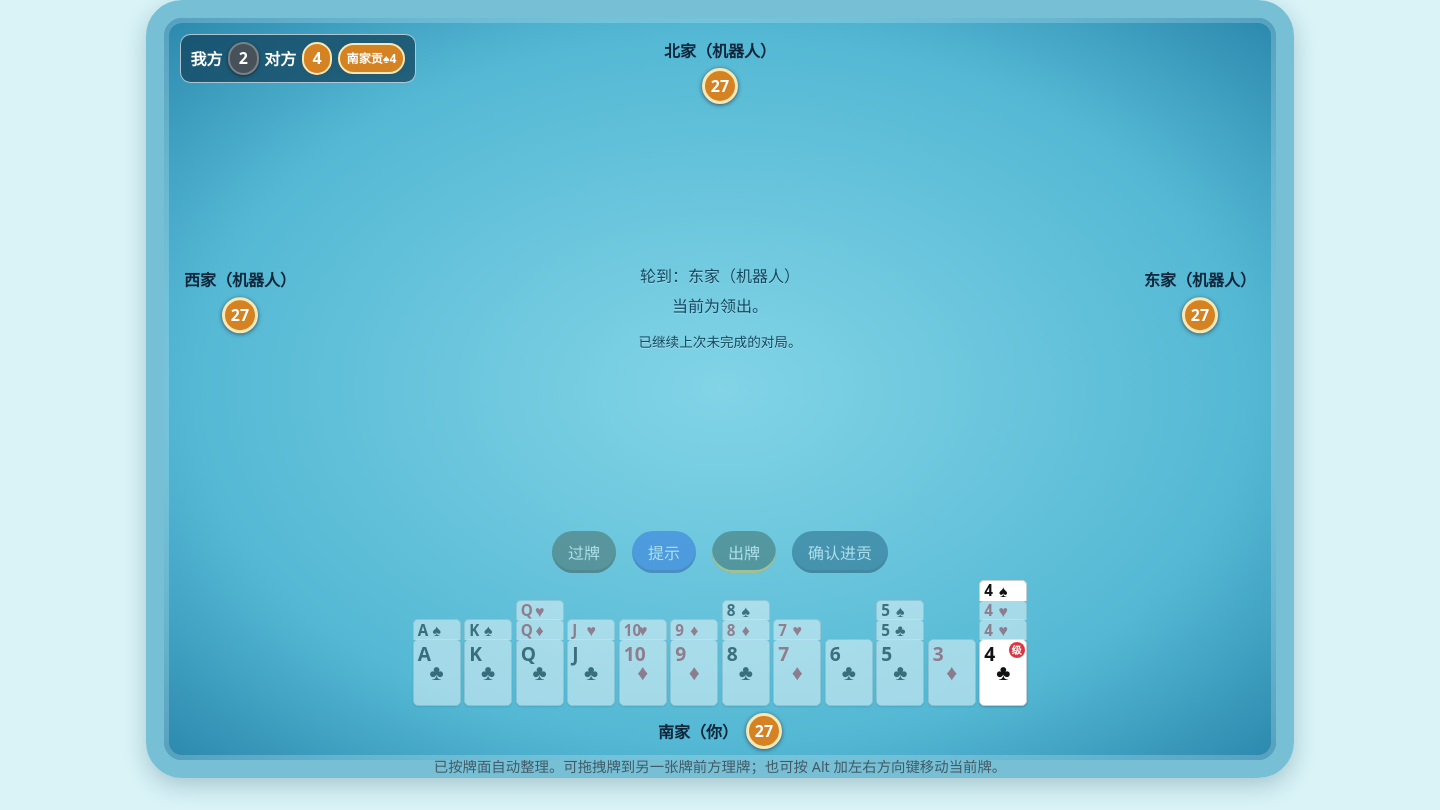
Test: App › 连续赛局的南家进贡阶段只允许选择贡牌并手动确认
(page scrolled)
Expected: the button "过牌" is disabled, [552,531,616,573]
Expected: the button "提示" is disabled, [632,531,696,573]
Click the button named "选择" at (1003, 672), box [979,639,1027,706]
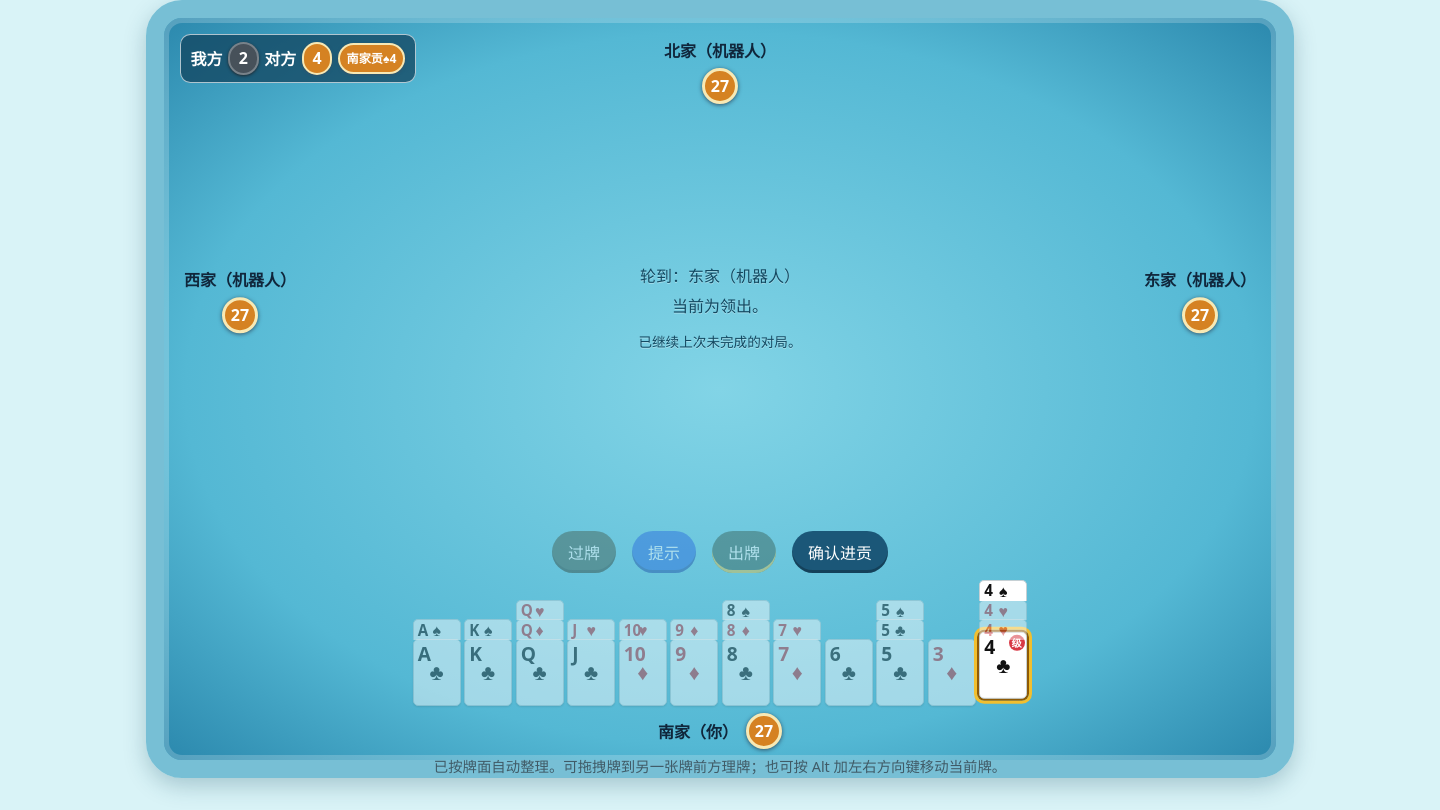
Click the button "确认进贡" at (840, 552), box [792,531,888,573]
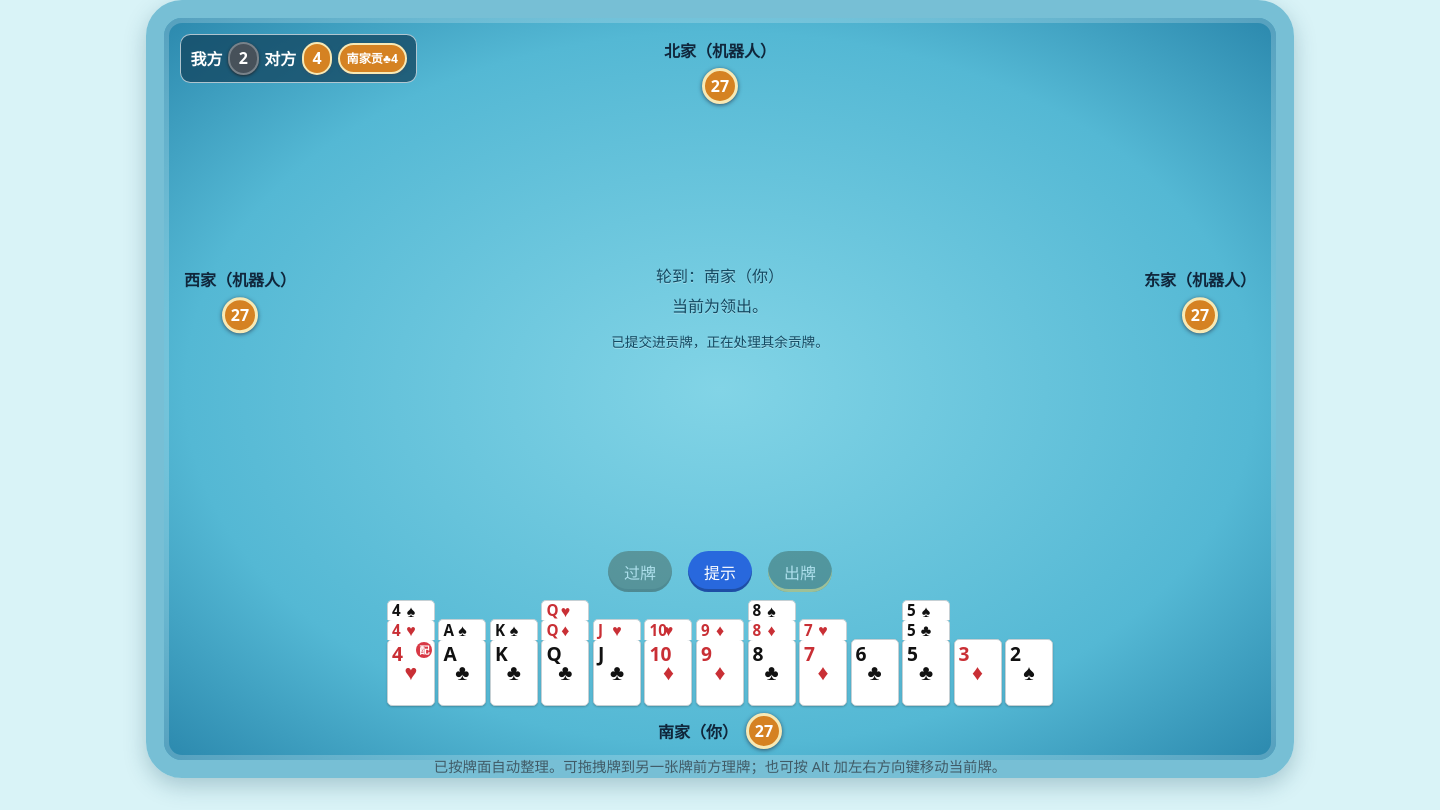
Expected: the button "确认进贡" is gone
